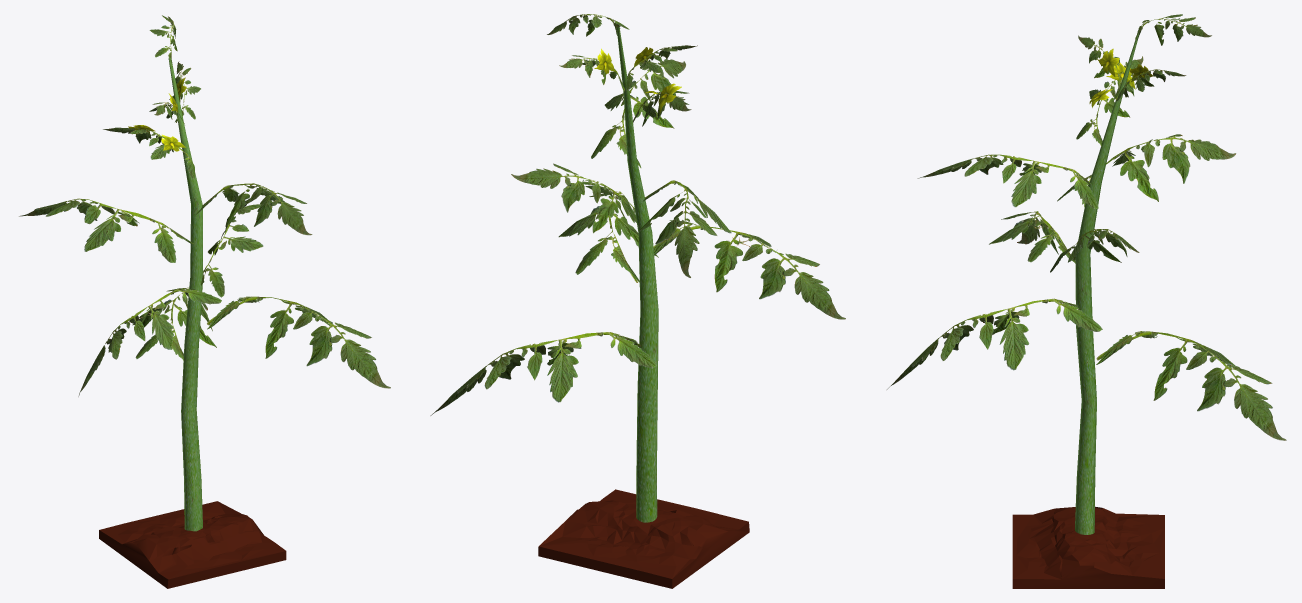
The model's file is bedeng_tomat_1.obj.
The picture shows the model from 3 angles, left to right: view 1: azimuth 30°, elevation 25°; view 2: azimuth 150°, elevation 25°; view 3: azimuth 270°, elevation 25°; orthographic projection. The views are drawn at different scales.
Visible parts, largest first — view 1: Pohon_Tomat_2_tomato-plant.005, PP_Meadow_Path_05_Scene.1042; view 2: Pohon_Tomat_2_tomato-plant.005, PP_Meadow_Path_05_Scene.1042; view 3: Pohon_Tomat_2_tomato-plant.005, PP_Meadow_Path_05_Scene.1042.
Part boxes in pixels (left/top/right/bottom): Pohon_Tomat_2_tomato-plant.005: left=19, top=15, right=390, bottom=531; PP_Meadow_Path_05_Scene.1042: left=99, top=501, right=286, bottom=588; Pohon_Tomat_2_tomato-plant.005: left=430, top=14, right=845, bottom=522; PP_Meadow_Path_05_Scene.1042: left=538, top=489, right=749, bottom=588; Pohon_Tomat_2_tomato-plant.005: left=887, top=14, right=1286, bottom=534; PP_Meadow_Path_05_Scene.1042: left=1012, top=506, right=1164, bottom=588.
Size of the model in its own units: 2.26 by 3.98 by 2.69.
